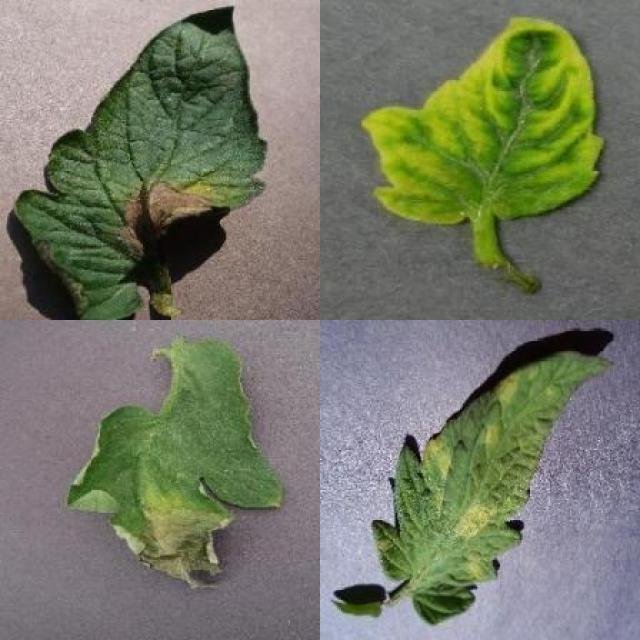Late Blight: (15, 6, 269, 320), (64, 338, 284, 592)
Leaf Mold: (374, 350, 615, 627)
Yellow Leaf Curl Virus: (362, 17, 608, 224)
